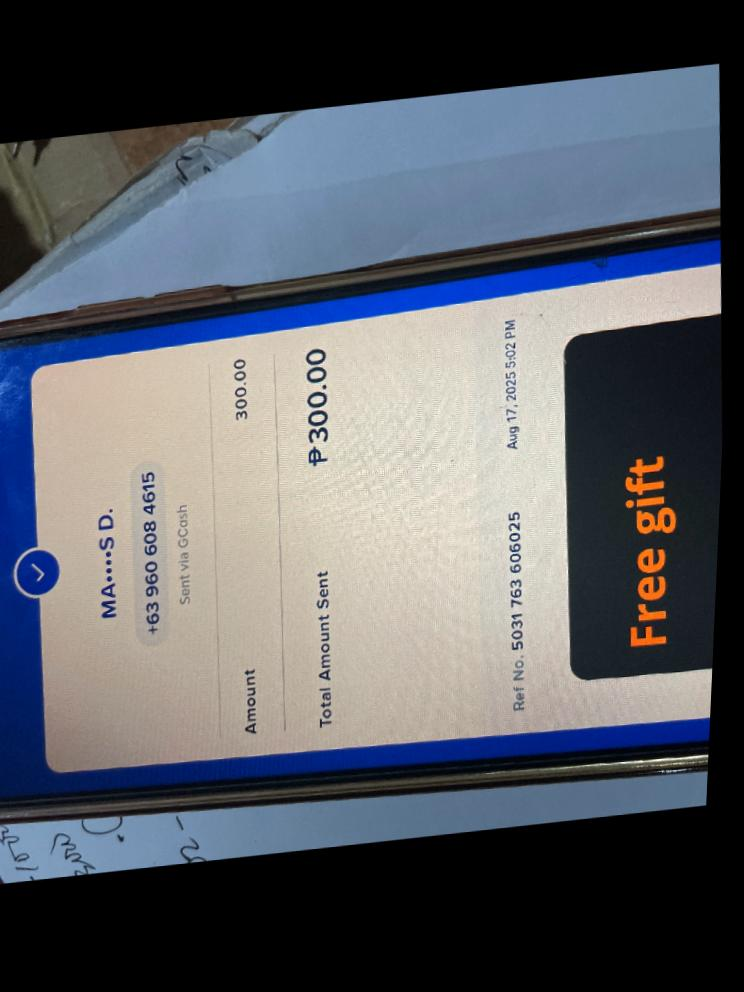Receipt: (0, 254, 731, 796)
